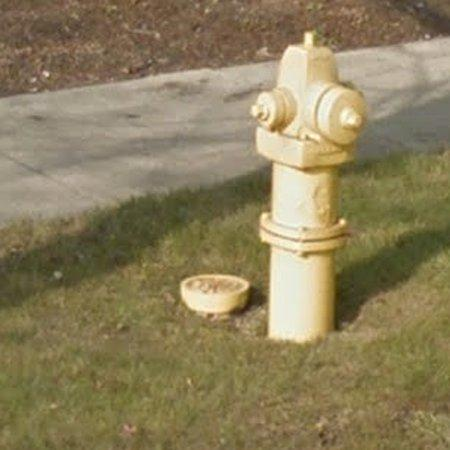a fire hydrant: (252, 32, 368, 342)
